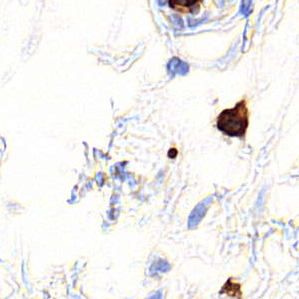Lymphocyte: (217, 100, 252, 137)
